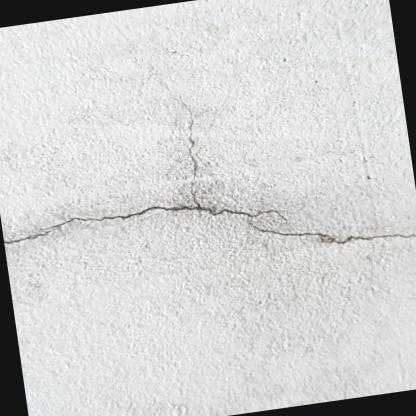crack: (3, 206, 416, 245)
